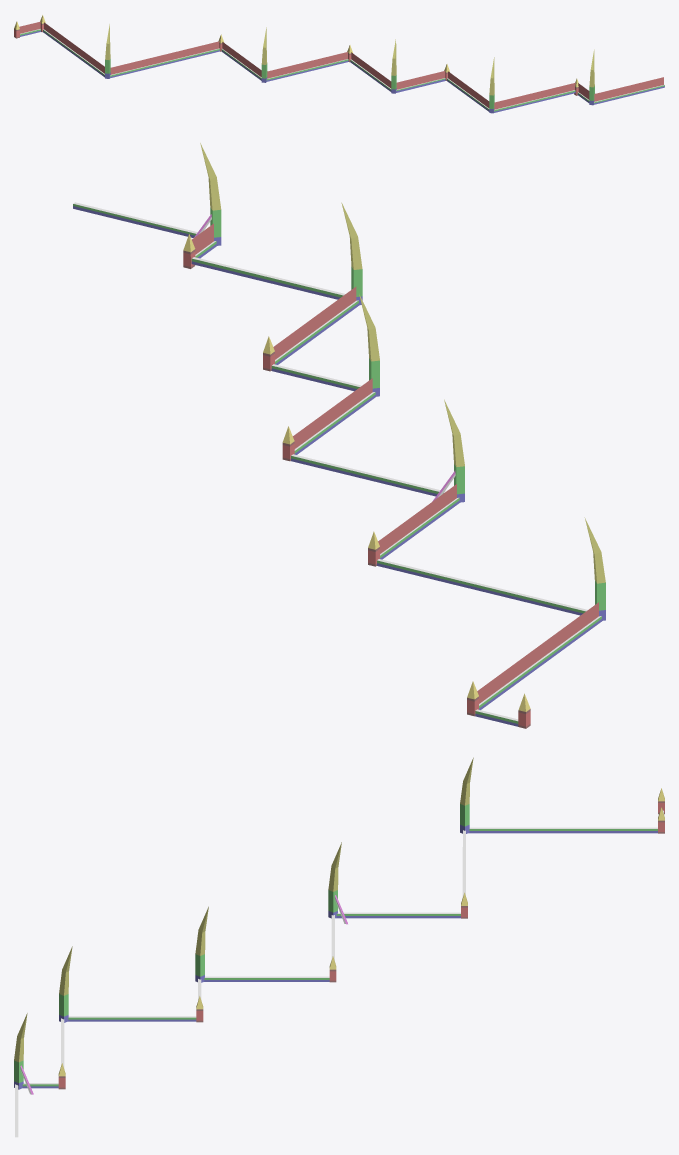
The model's file is O_DE_fence02.gltf.
3 renders of one model, top to bottom at view 1: azimuth 30°, elevation 25°; view 2: azimuth 150°, elevation 25°; view 3: azimuth 270°, elevation 25°, orthographic. The views are drawn at different scales.
Parts seen in each view (by area): view 1: O_DE_fence02; view 2: O_DE_fence02; view 3: O_DE_fence02.
Part boxes in pixels (x1=…): O_DE_fence02: x1=14, y1=15, x2=664, y2=113; O_DE_fence02: x1=73, y1=143, x2=605, y2=728; O_DE_fence02: x1=14, y1=757, x2=664, y2=1137.
Bounding box in the file's own units: 26.87 × 3.19 × 22.63.
